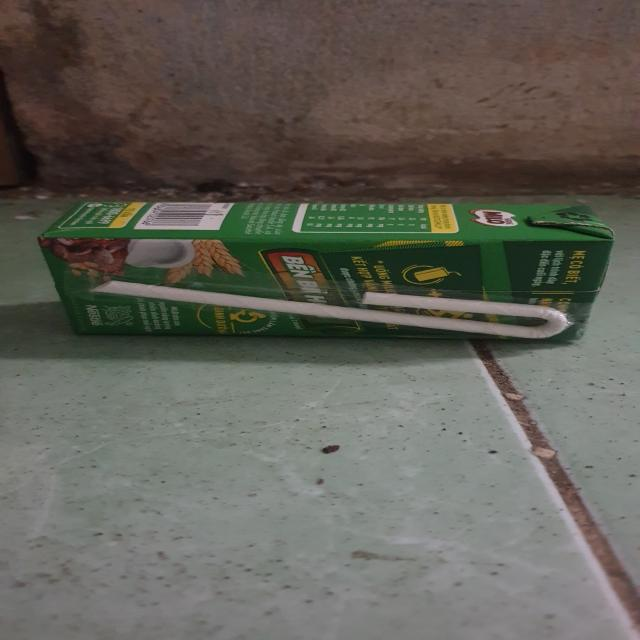Milo: (35, 195, 622, 350)
